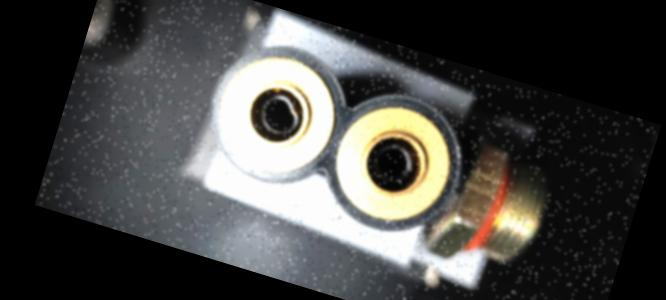off-centered: (248, 88, 310, 146)
